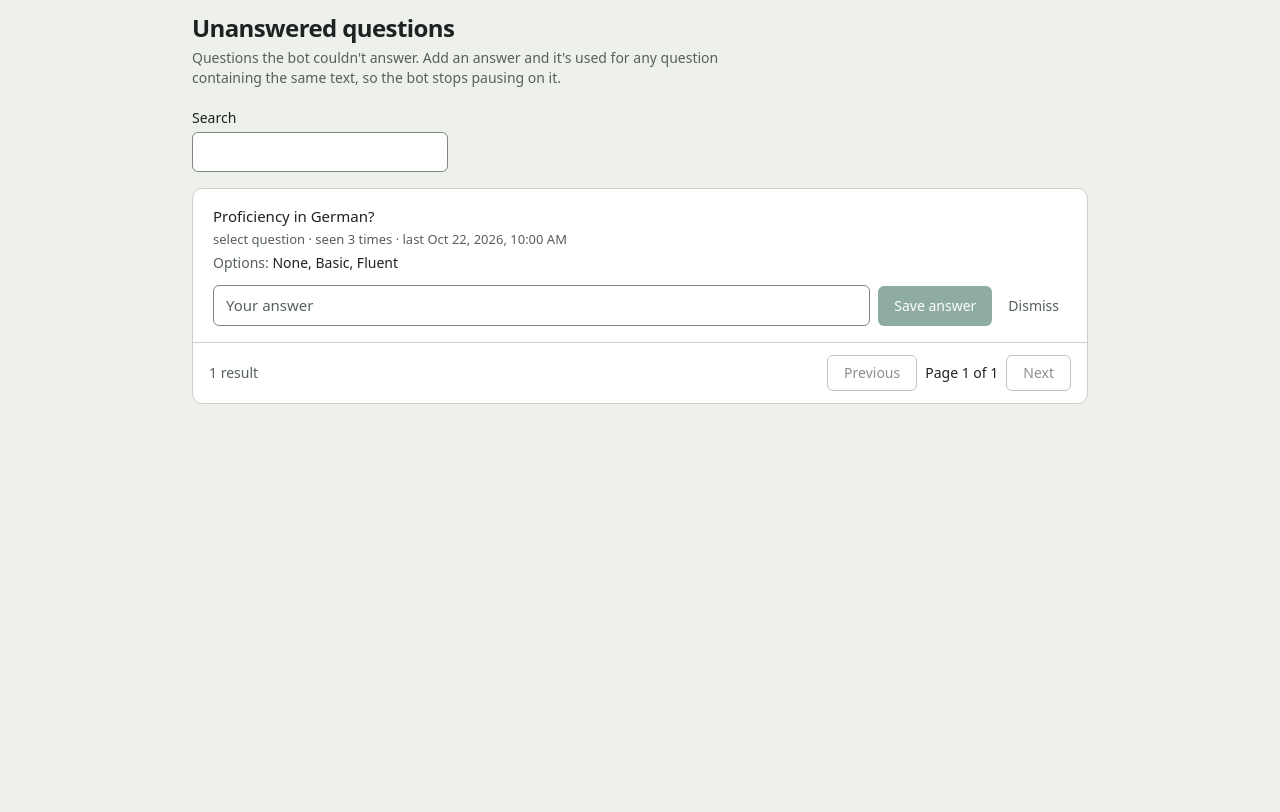
Test: answering a question saves it as a custom answer
Expected: the text "Proficiency in German?" is shown, [213, 206, 374, 226]
Expected: the text "None, Basic, Fluent" is shown, [272, 253, 398, 272]
In the field named "Answer for Proficiency in German?": (542, 305) [213, 285, 870, 326], type "None"
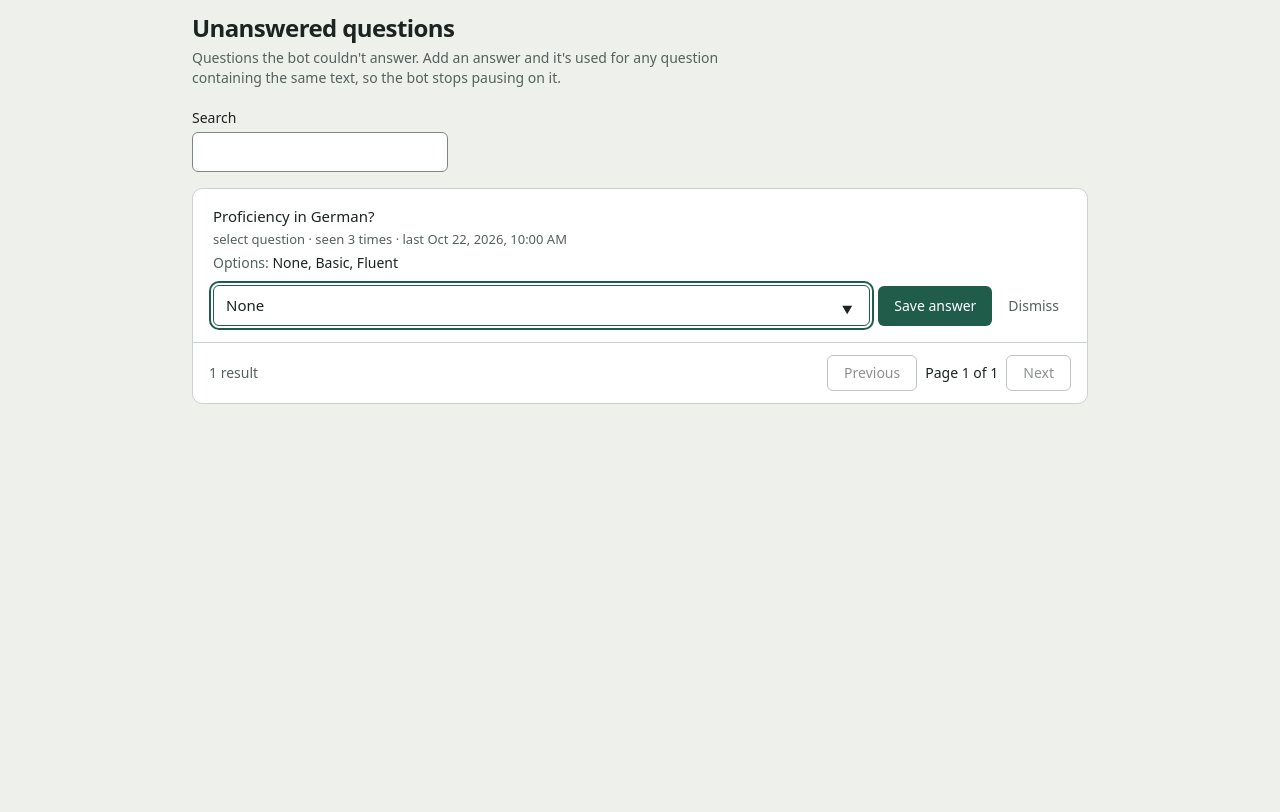
Click the button "Save answer": click(935, 306) [878, 286, 992, 326]
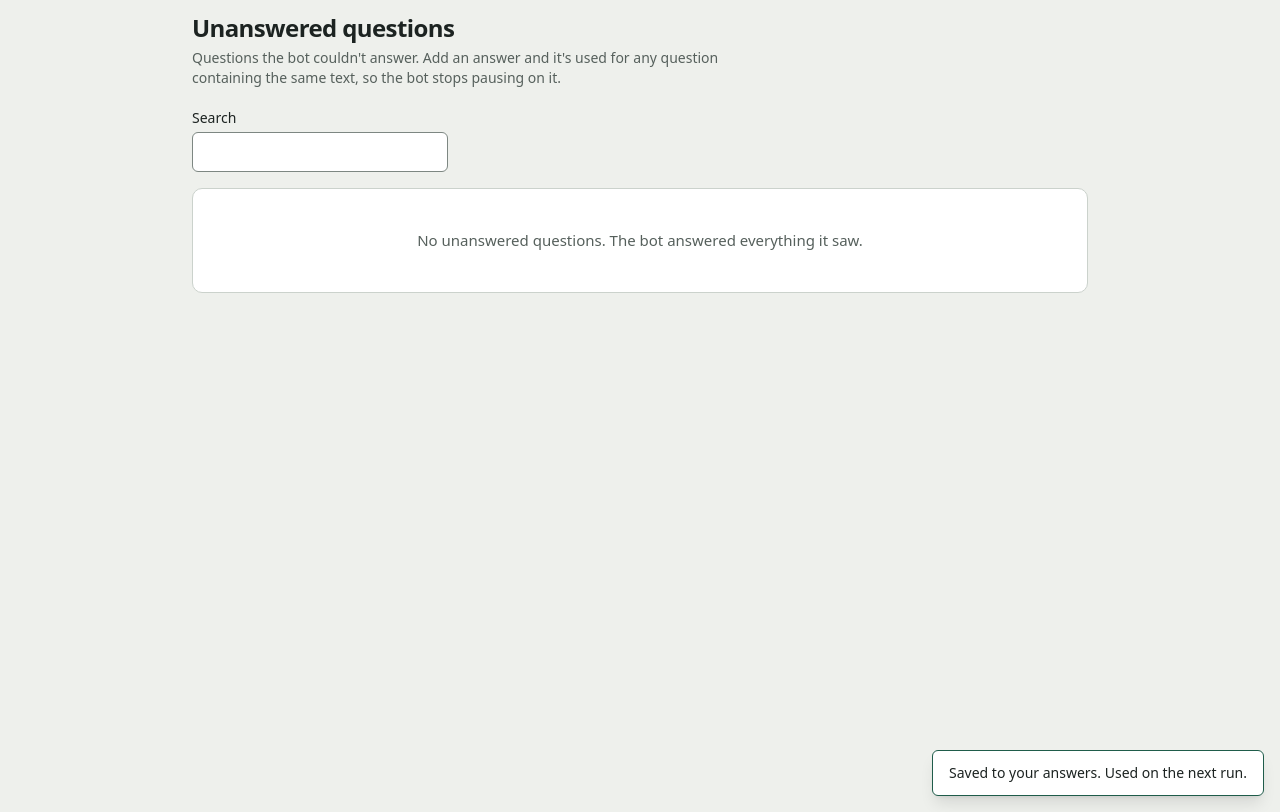
Expected: the text "No unanswered questions. The bot answered everything it saw." is shown, [417, 230, 863, 250]
